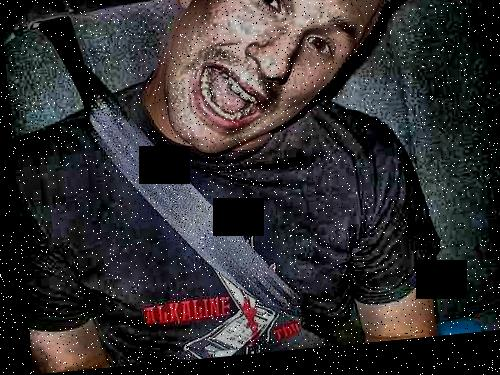seatbelt: (31, 0, 295, 329)
